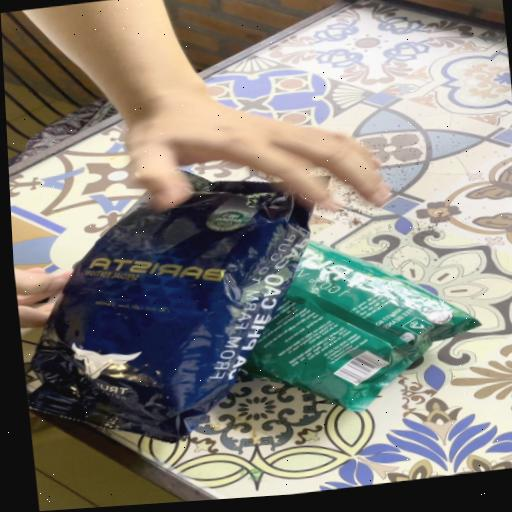cafe_hat: (28, 172, 312, 442)
cafe_xay: (246, 242, 480, 411)
